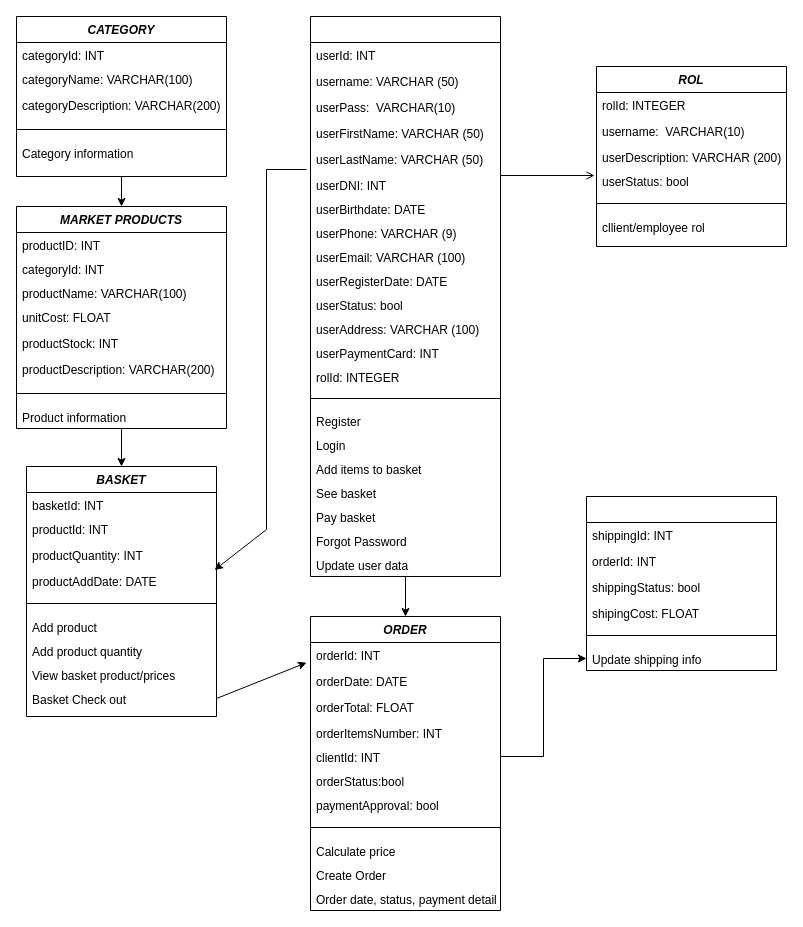
Image size: 803x927. Some labels were removed from this diagram. Each missing label, with the box of its shape:
CLIENT: (310, 16, 500, 576)
SHHIPPING DETAILS: (586, 496, 776, 670)
